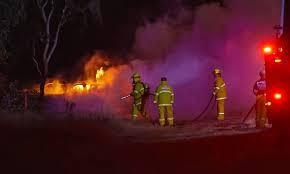fire: (41, 59, 117, 94)
